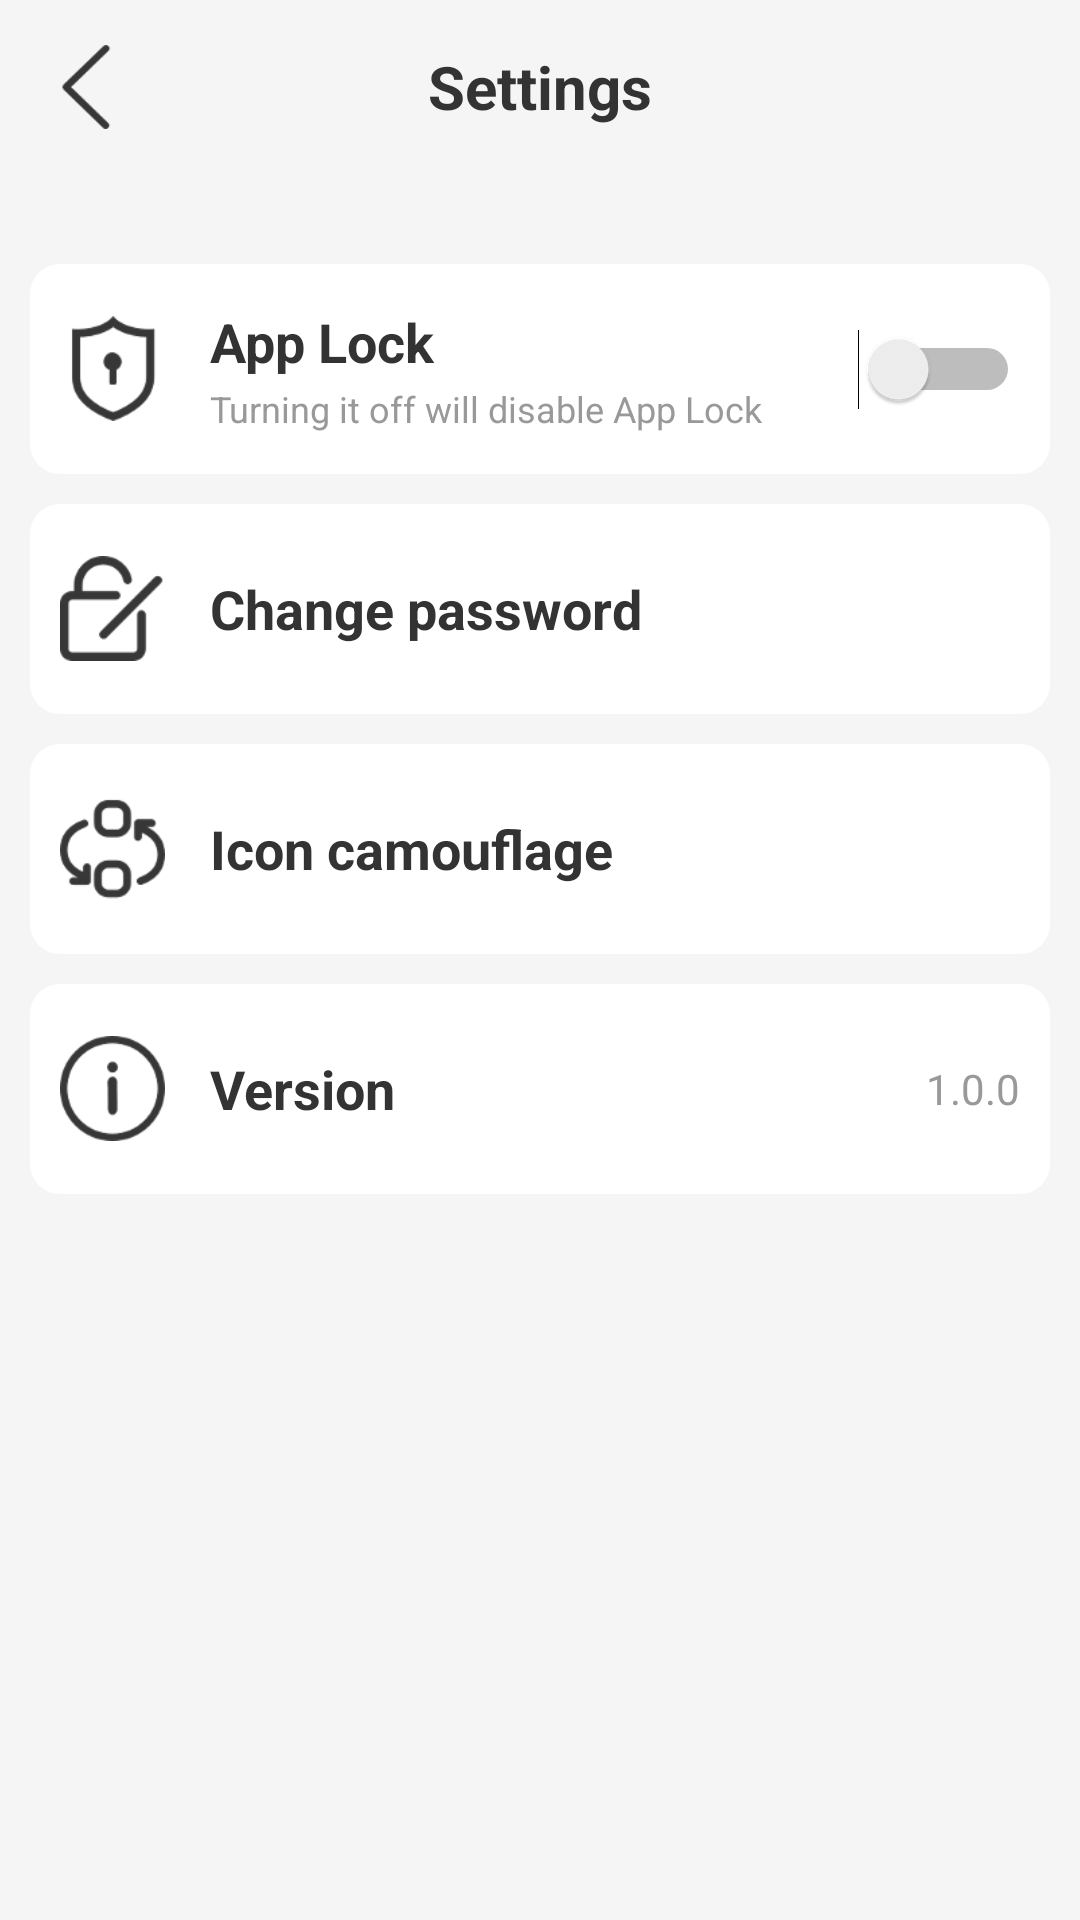

Screen size 1080px x 1920px. Icon name, then its box in pixels as box=[x1, y1, x2, y2]:
back: box=[62, 45, 110, 129]
